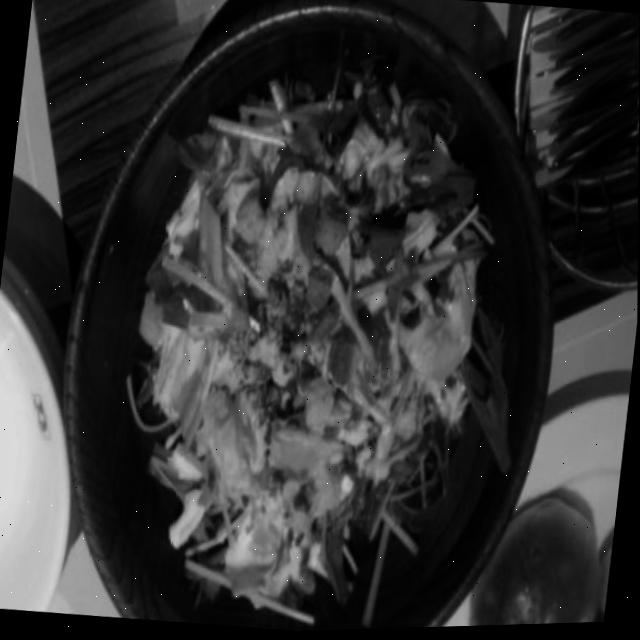蔬菜料理: (38, 0, 577, 639)
